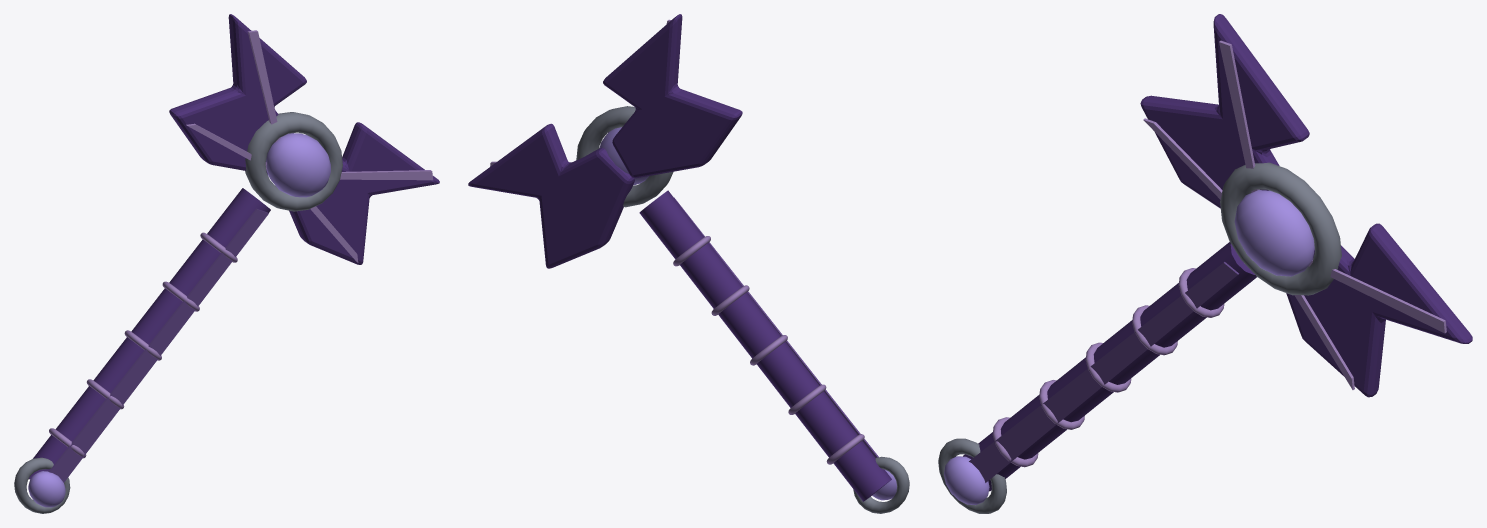
File: batwand.glb
3 renders of one model, left to right at view 1: azimuth 30°, elevation 25°; view 2: azimuth 150°, elevation 25°; view 3: azimuth 330°, elevation 25°, orthographic. The views are drawn at different scales.
Visible parts, largest first — view 1: _cyl, _profile.001, _profile.004, _sphere, _sphere.002; view 2: _cyl, _profile.001, _profile.004, _sphere, _sphere.002; view 3: _cyl, _profile.004, _profile.001, _sphere, _sphere.002.
Boxes of the visible parts, x1,y1,x2,y2 form: _cyl: (29,188,270,482); _profile.001: (169,14,306,174); _profile.004: (289,122,439,264); _sphere: (245,112,342,211); _sphere.002: (14,457,70,513); _cyl: (639,190,891,501); _profile.001: (603,14,742,178); _profile.004: (468,123,634,268); _sphere: (576,106,673,207); _sphere.002: (853,456,909,513); _cyl: (963,242,1256,491); _profile.004: (1286,223,1472,397); _profile.001: (1140,14,1309,208); _sphere: (1220,162,1341,295); _sphere.002: (938,438,1006,513).
Bounding box in the file's own units: 1.15 × 1.15 × 0.1597.
